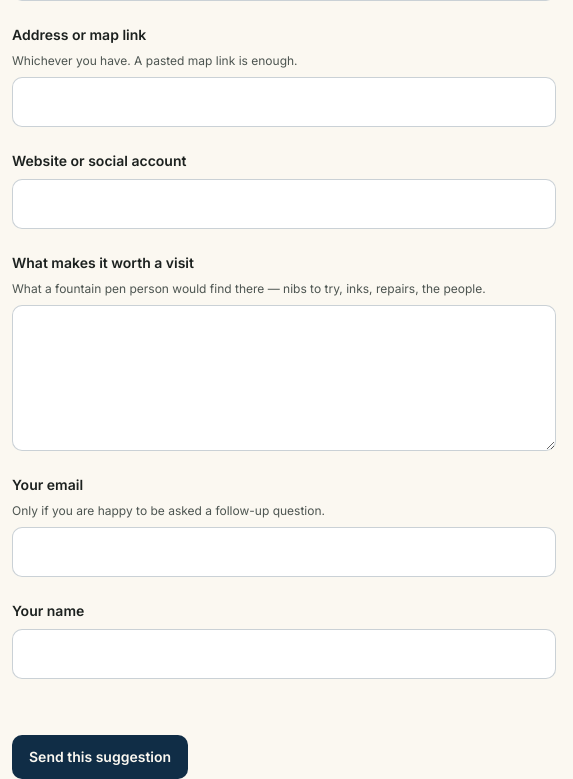
Test: validation before anything is sent › does not post an incomplete submission, and says what is missing
The image size is (573, 779).
(page scrolled)
What coordinates should you click on to do the following:
click the button "Send this suggestion"
I would click on:
 (100, 757)
Its box is top-left (12, 735), bottom-right (188, 778).
(page scrolled)
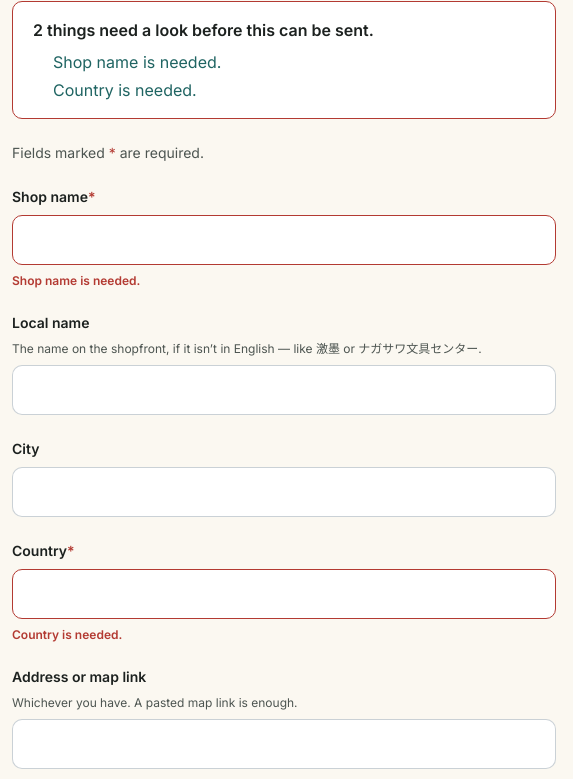
Now the message shows "2 things need a look", box top-left (33, 20), bottom-right (374, 40)
